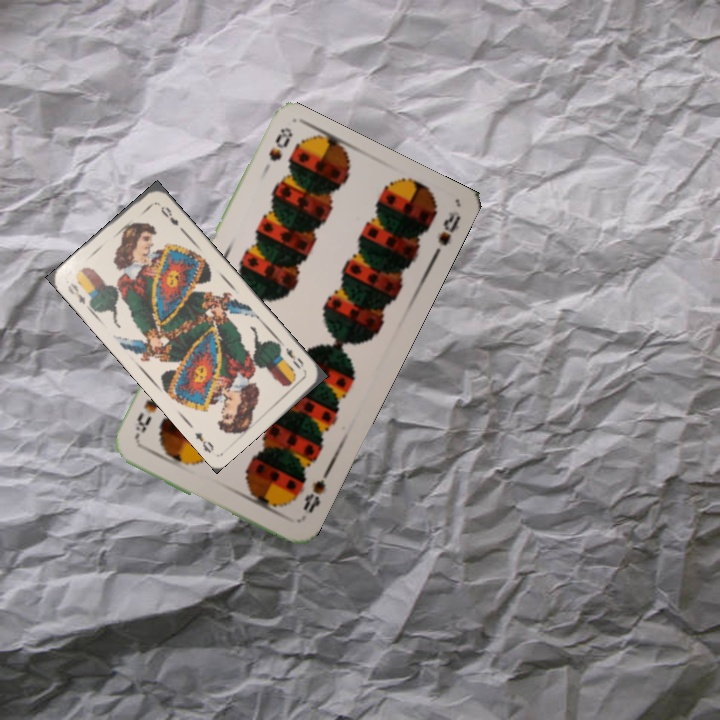EO: (281, 344, 306, 372), (64, 279, 88, 307)
S8: (299, 468, 331, 516), (264, 124, 296, 164)
